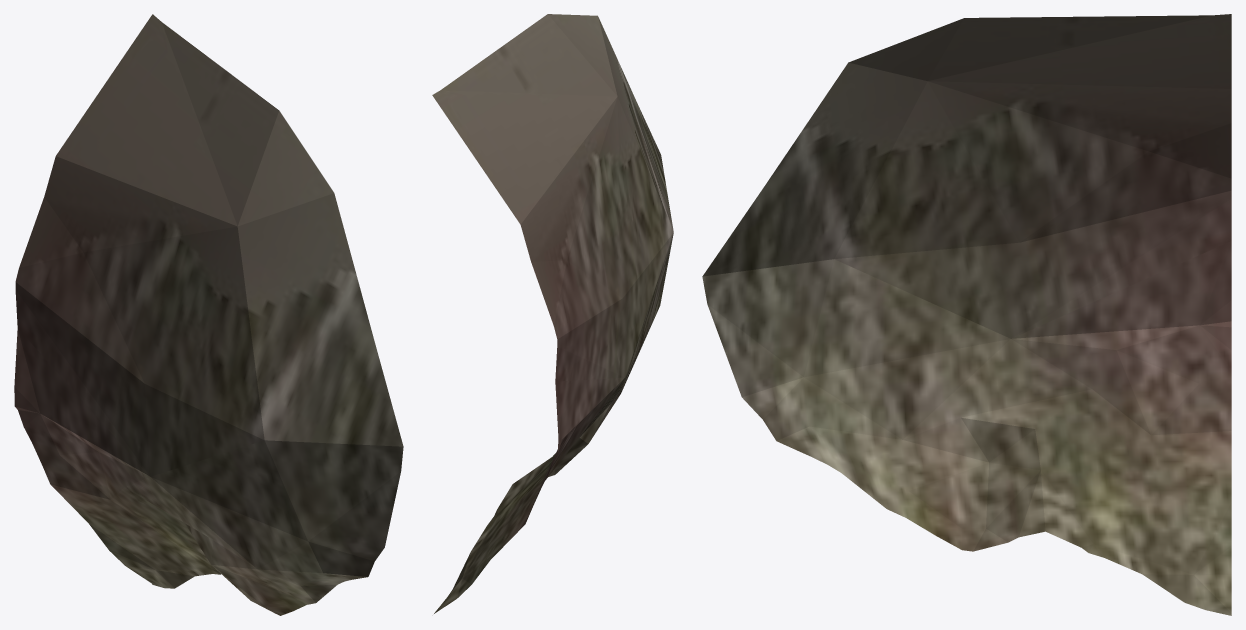
The picture shows the model from 3 angles, left to right: view 1: azimuth 30°, elevation 25°; view 2: azimuth 150°, elevation 25°; view 3: azimuth 270°, elevation 25°; orthographic projection. The views are drawn at different scales.
Size of the model in its own units: 0.5021 by 1.98 by 1.58.
Materials: 1 (1 with a texture image).
